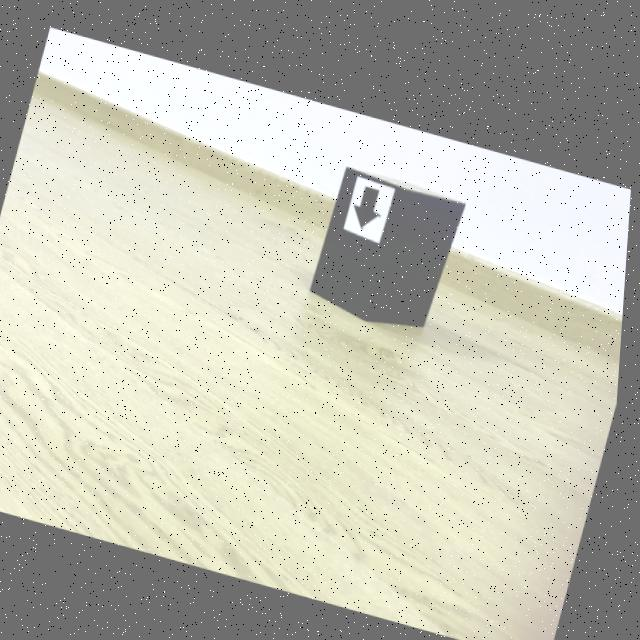DOWN: (356, 180, 382, 222)
